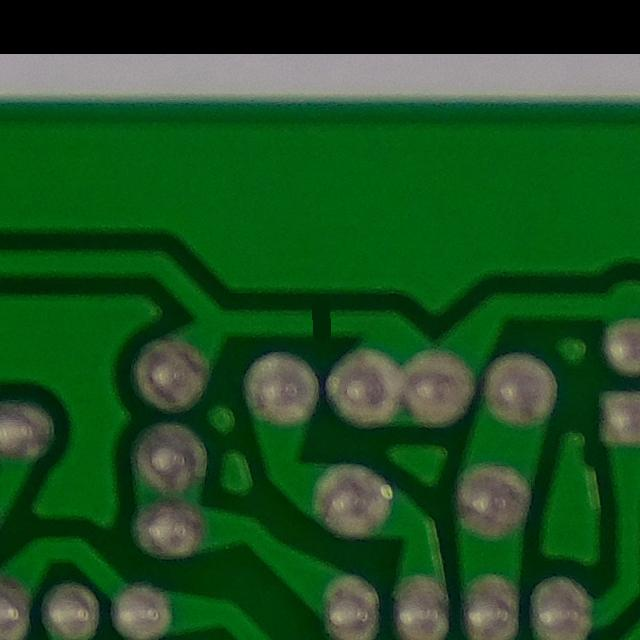open_circuit: (297, 298, 343, 342)
